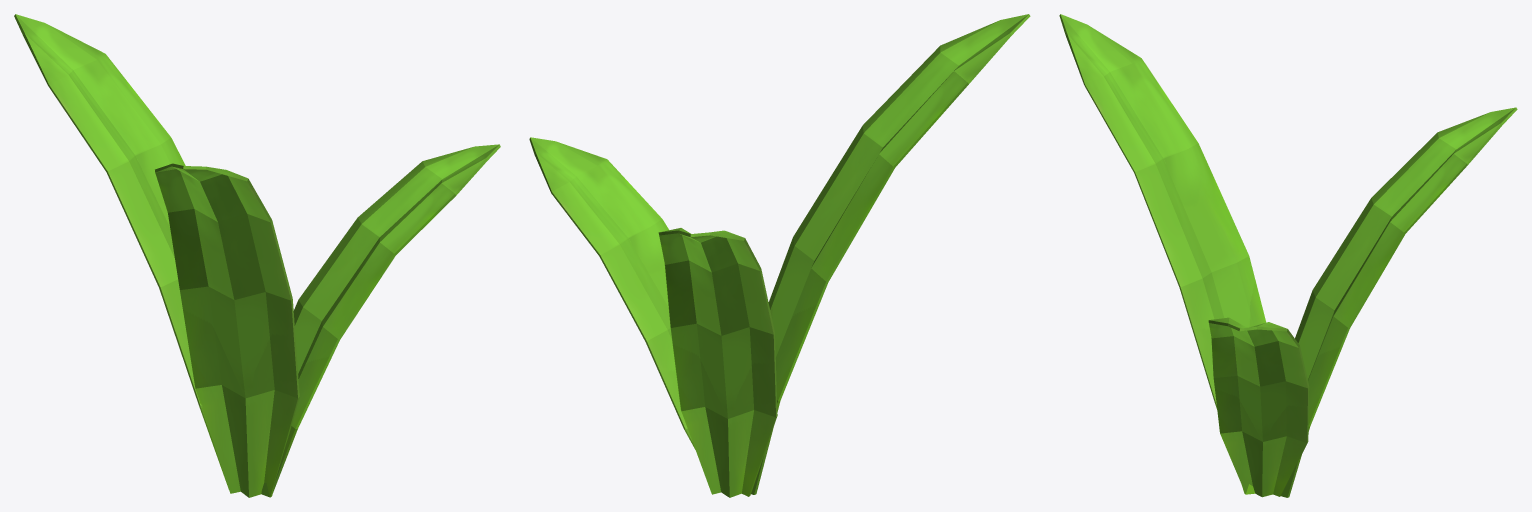
File: Plant_01.fbx
The picture shows the model from 3 angles, left to right: view 1: azimuth 30°, elevation 25°; view 2: azimuth 150°, elevation 25°; view 3: azimuth 270°, elevation 25°; orthographic projection. The views are drawn at different scales.
Parts seen in each view (by area): view 1: Plant_01; view 2: Plant_01; view 3: Plant_01.
Boxes of the visible parts, box(x1,y1,x2,y2) form: Plant_01: box(14, 14, 500, 497); Plant_01: box(529, 14, 1030, 497); Plant_01: box(1059, 14, 1517, 497).
Bounding box in the file's own units: 150 × 156 × 162.
1 material, 1 textured.
